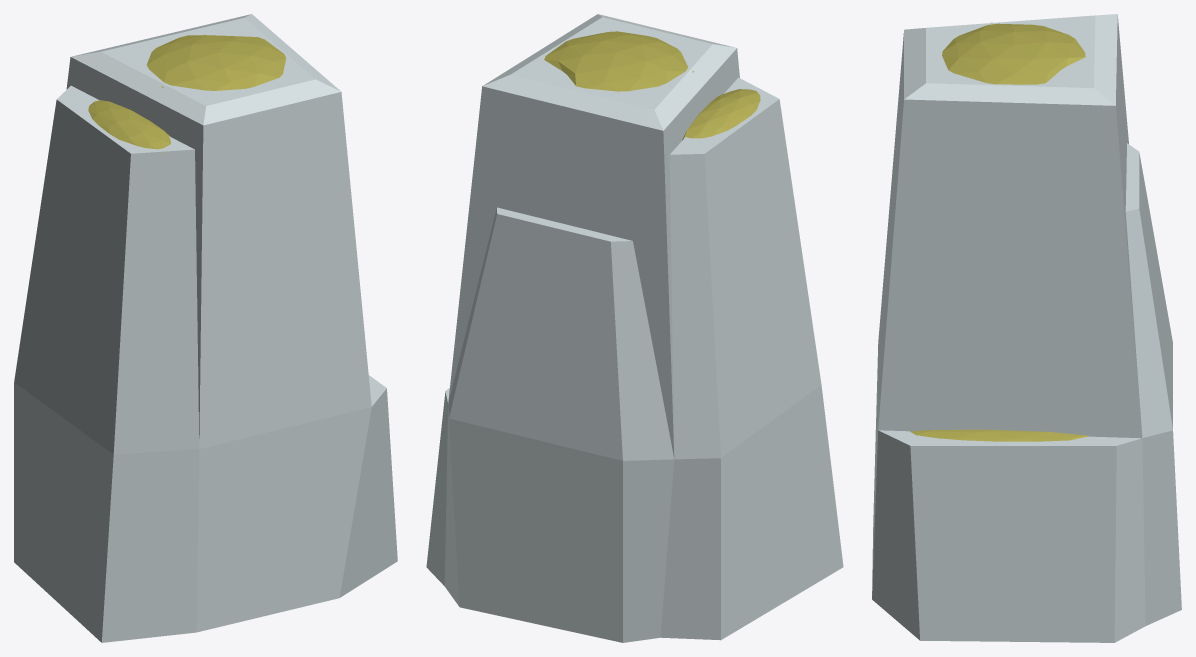
File: Cliff1.fbx
The picture shows the model from 3 angles, left to right: view 1: azimuth 30°, elevation 25°; view 2: azimuth 150°, elevation 25°; view 3: azimuth 270°, elevation 25°; orthographic projection. The views are drawn at different scales.
Parts seen in each view (by area): view 1: Cube.011; view 2: Cube.011; view 3: Cube.011.
Part boxes in pixels (<box>): Cube.011: <box>14,14,397,642</box>; Cube.011: <box>426,14,843,642</box>; Cube.011: <box>872,14,1181,642</box>.
Bounding box in the file's own units: 1113 × 1744 × 929.
